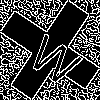W: (25, 25, 90, 89)
